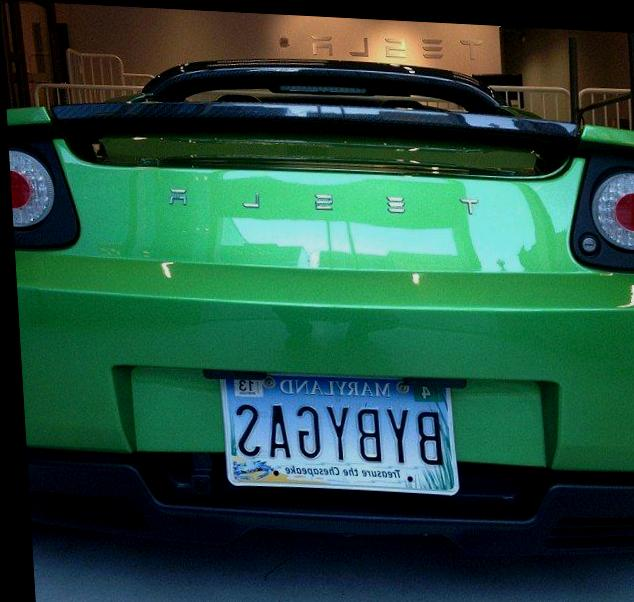License_Plate: (200, 354, 479, 521)
